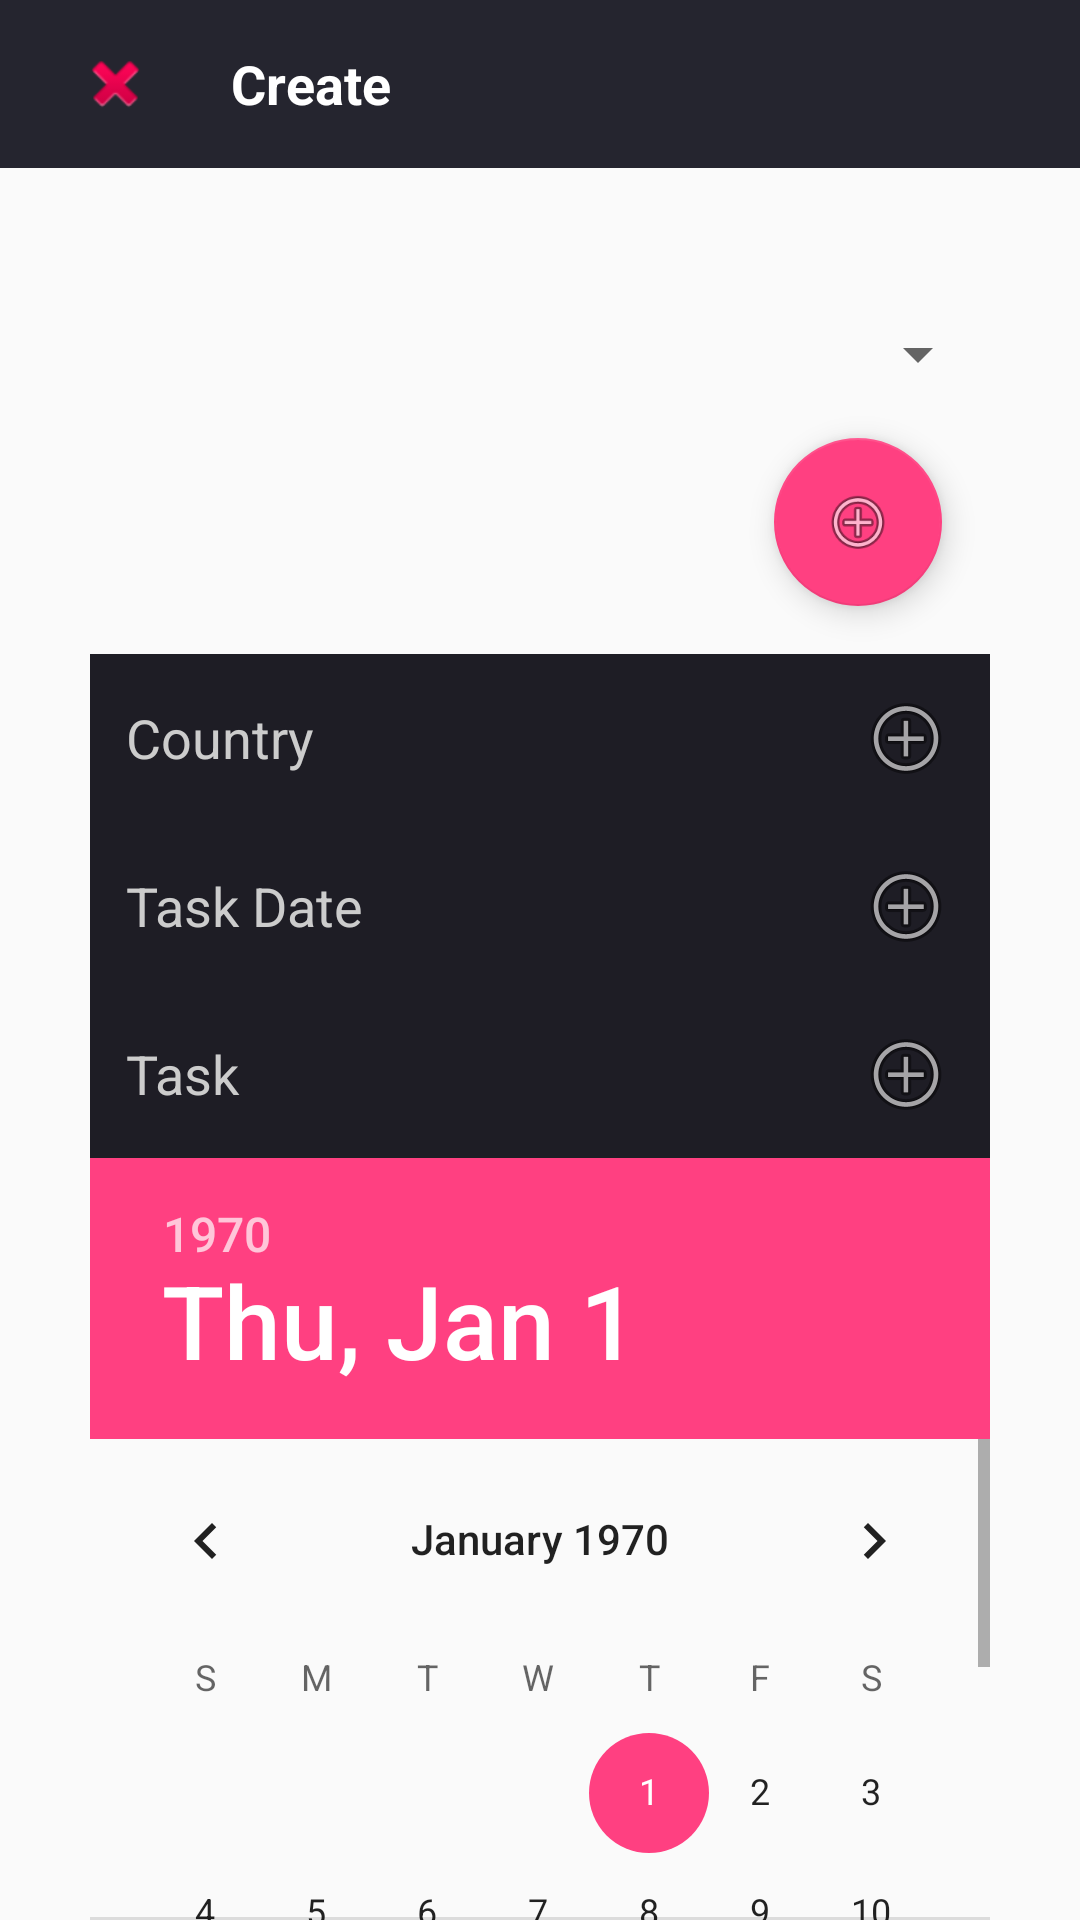

Locate icon controls on the screen. Image size 1080x1920, boxes as {"x1": x1, "y1": y1, "x2": x2, "y2": y2}.
add: {"x1": 774, "y1": 438, "x2": 942, "y2": 606}
delete: {"x1": 92, "y1": 61, "x2": 139, "y2": 107}
